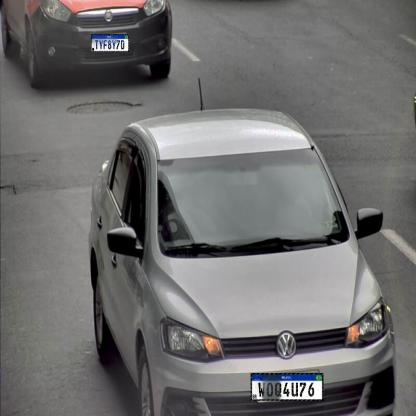PlacaM: (250, 373, 324, 401), (91, 34, 129, 52)
